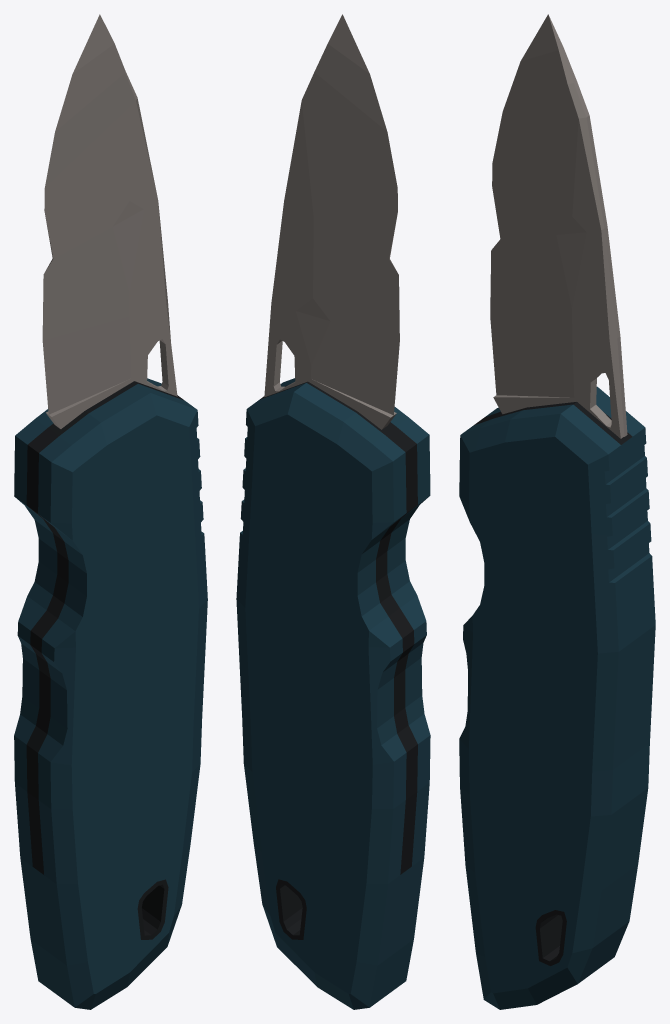
Rendered from SM_Flick_Knife.gltf.
The picture shows the model from 3 angles, left to right: view 1: azimuth 30°, elevation 25°; view 2: azimuth 150°, elevation 25°; view 3: azimuth 330°, elevation 25°; orthographic projection.
Visible parts, largest first — view 1: SM_Flick_Knife, Blade; view 2: SM_Flick_Knife, Blade; view 3: SM_Flick_Knife, Blade.
Part boxes in pixels (x1,y1,x2,y2): SM_Flick_Knife: [14, 378, 207, 1009]; Blade: [42, 14, 177, 428]; SM_Flick_Knife: [236, 378, 430, 1009]; Blade: [264, 14, 399, 429]; SM_Flick_Knife: [459, 386, 655, 1009]; Blade: [490, 14, 627, 438].
Size of the model in its own units: 0.0344 by 0.2037 by 0.0183.
